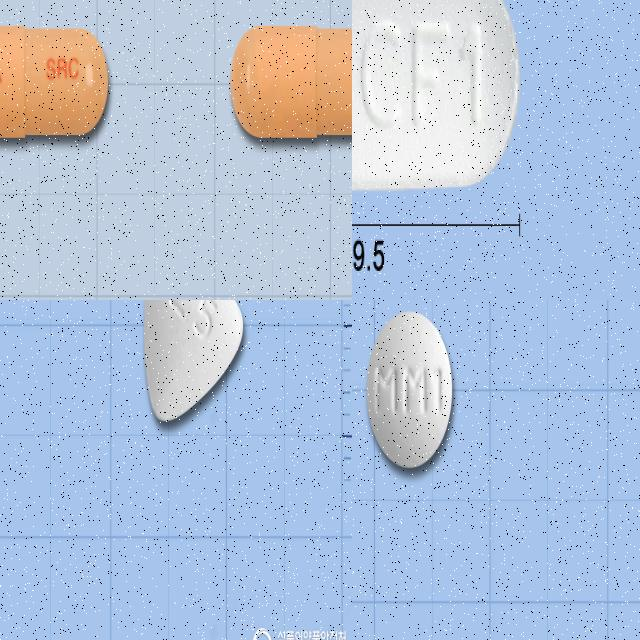Entecabell - 1mg: (143, 300, 244, 420)
Leflunomide - 20mg: (366, 309, 454, 469)
Supric Cap: (230, 25, 352, 139), (0, 23, 110, 139)
Vancozin Cap: (352, 0, 518, 188)
